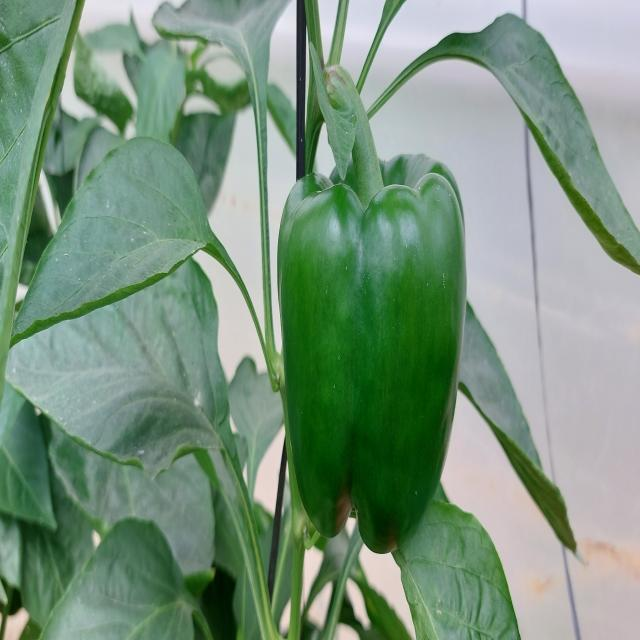Green--Not-ready-to-harvest: (276, 143, 474, 571)
